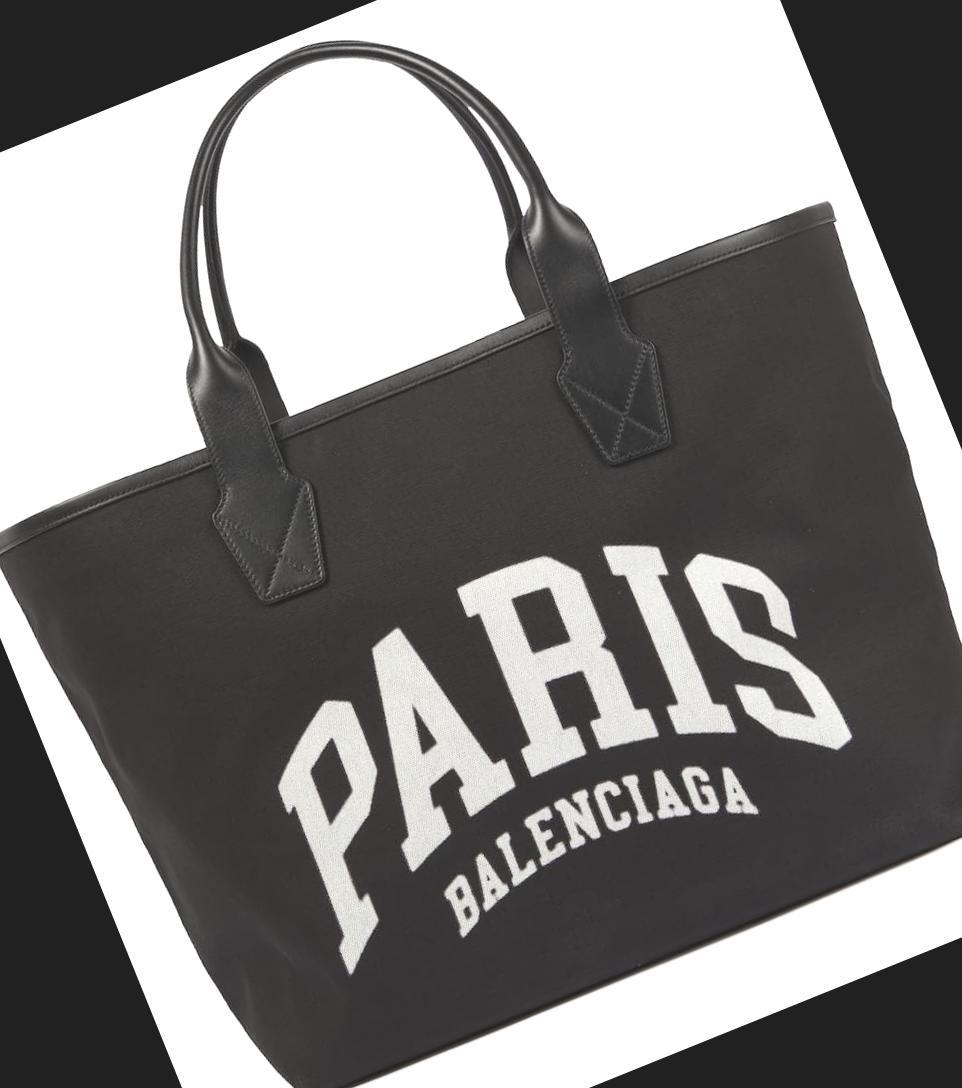BALENCIAGA: (426, 731, 762, 938)
